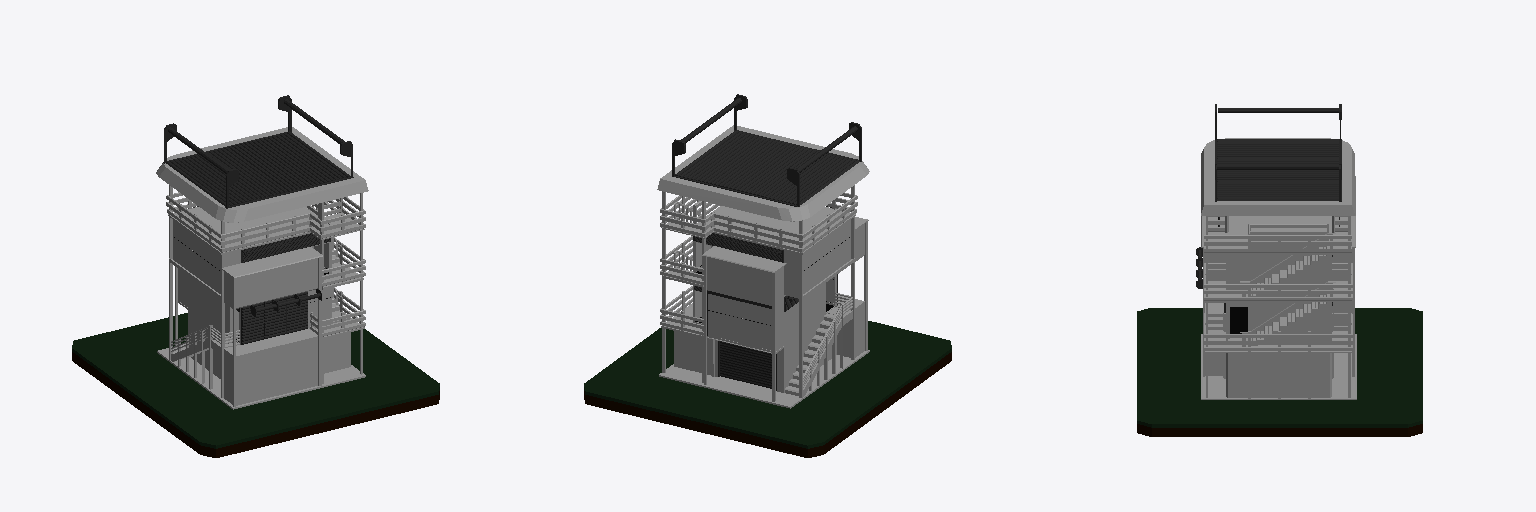
Rendered from Tower-HouseDesign.obj.
3 views of the same model, side by side, from view 1: azimuth 30°, elevation 25°; view 2: azimuth 150°, elevation 25°; view 3: azimuth 270°, elevation 25° (orthographic).
Visible parts, largest first — view 1: Plane; view 2: Plane; view 3: Plane.
Part boxes in pixels (x1,y1,x2,y2): Plane: (72, 95, 439, 457); Plane: (584, 94, 951, 457); Plane: (1137, 104, 1422, 436).
Size of the model in its own units: 15.44 by 15.13 by 16.